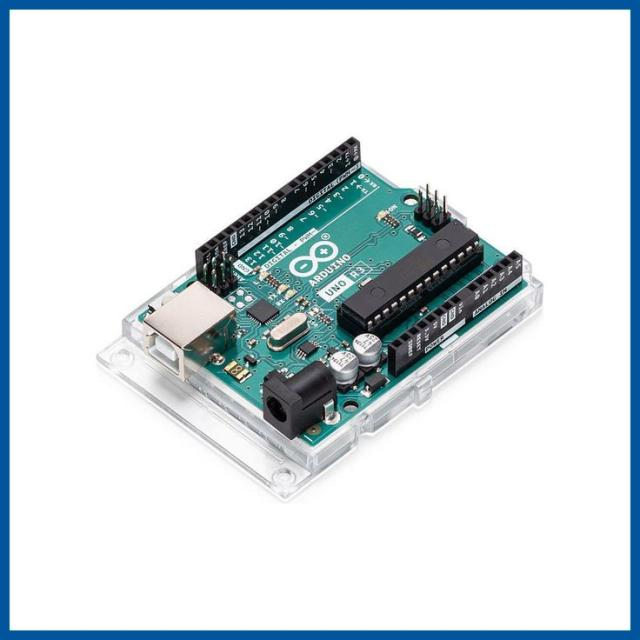Arduino: (51, 121, 581, 516)
